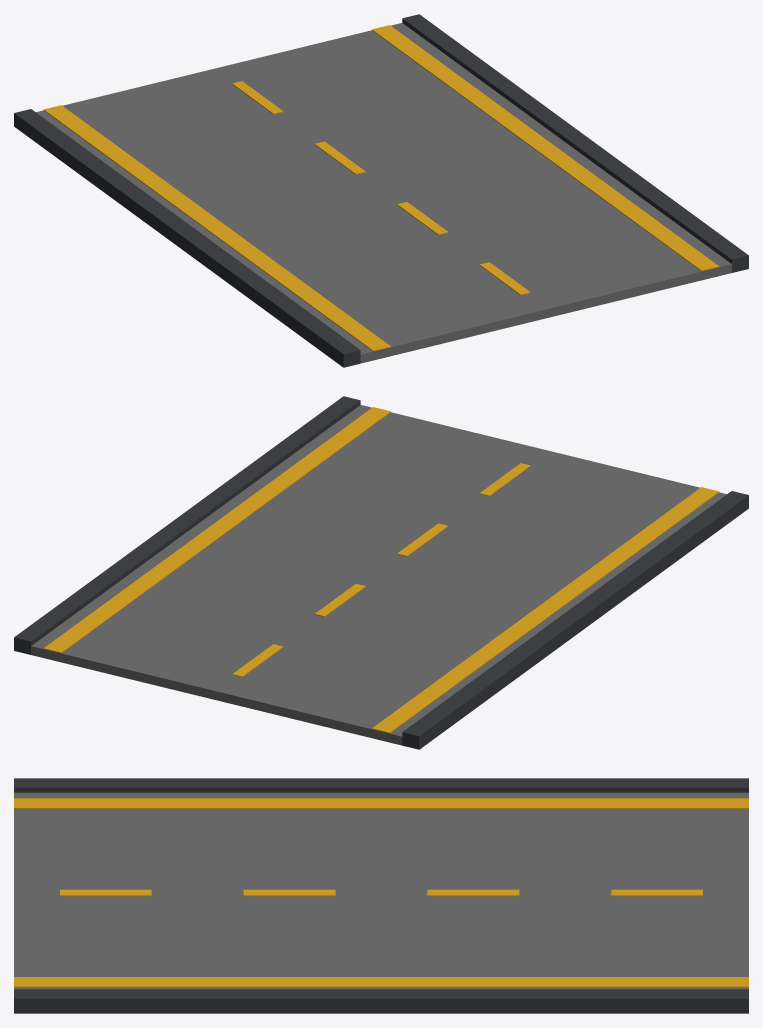
Rendered from road_industrial_v_straight.glb.
3 views of the same model, one above another, from view 1: azimuth 30°, elevation 25°; view 2: azimuth 150°, elevation 25°; view 3: azimuth 270°, elevation 25° (orthographic). The views are drawn at different scales.
Parts seen in each view (by area): view 1: body; view 2: body; view 3: body.
Boxes of the visible parts, left/top/right/bottom form: body: left=14, top=14, right=748, bottom=367; body: left=14, top=396, right=748, bottom=749; body: left=14, top=778, right=748, bottom=1013.
Size of what is drawn, in the model's own units: 5.68 by 0.18 by 8.
